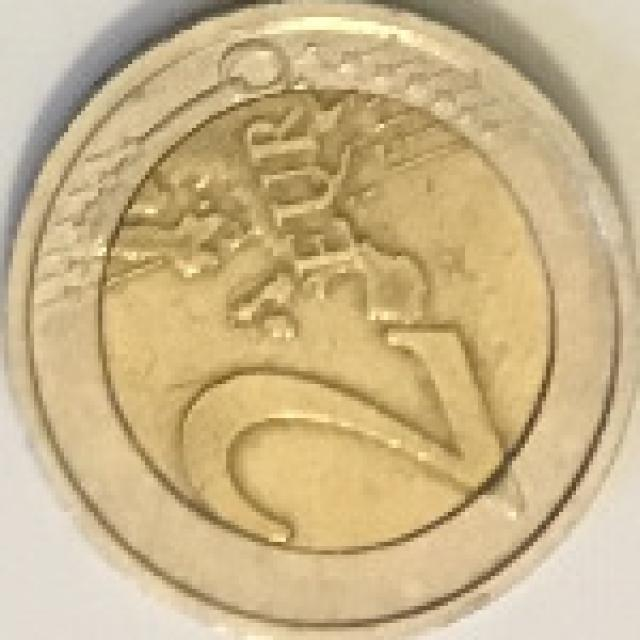2e: (4, 3, 640, 636)
